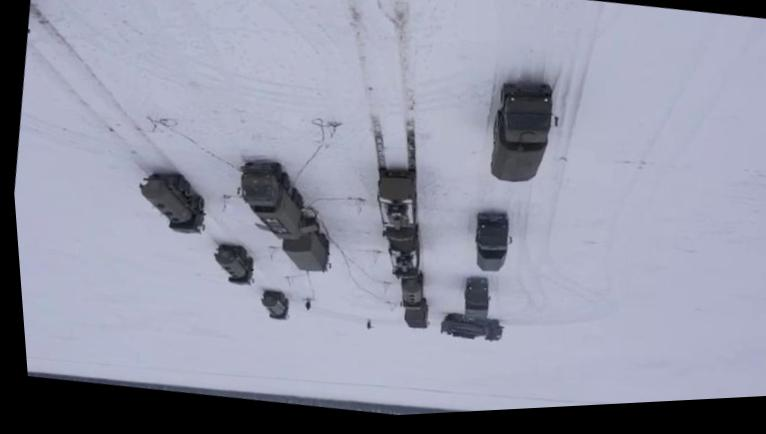person: (363, 316, 374, 331), (302, 294, 312, 310)
truck: (226, 149, 324, 247), (477, 77, 561, 189), (129, 163, 213, 240), (364, 163, 428, 246), (464, 202, 515, 276), (373, 227, 428, 282), (206, 240, 259, 289), (439, 308, 505, 345), (455, 271, 497, 324), (253, 283, 294, 323), (394, 271, 430, 310), (398, 299, 433, 335)
